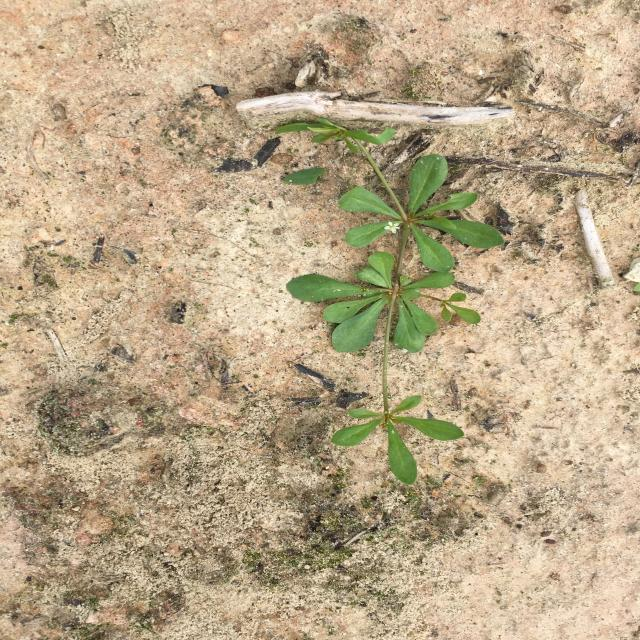Carpetweed: (275, 117, 504, 486)
